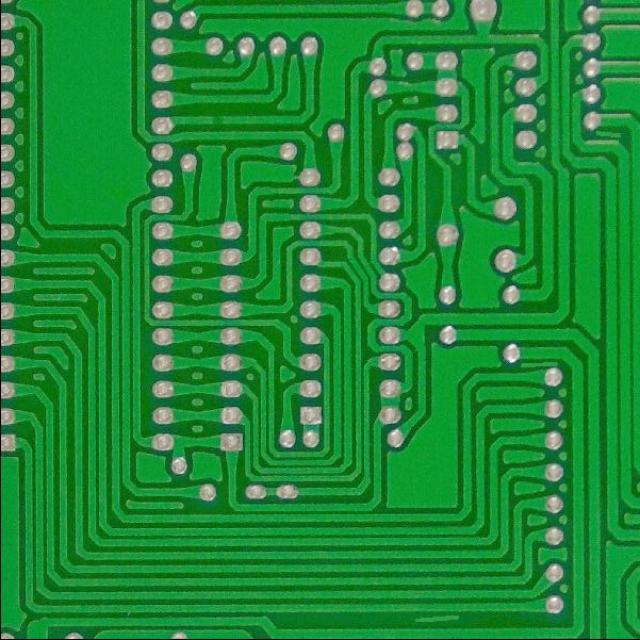Spurious_Cooper: (410, 610, 463, 626), (517, 356, 561, 371), (592, 126, 625, 140)
